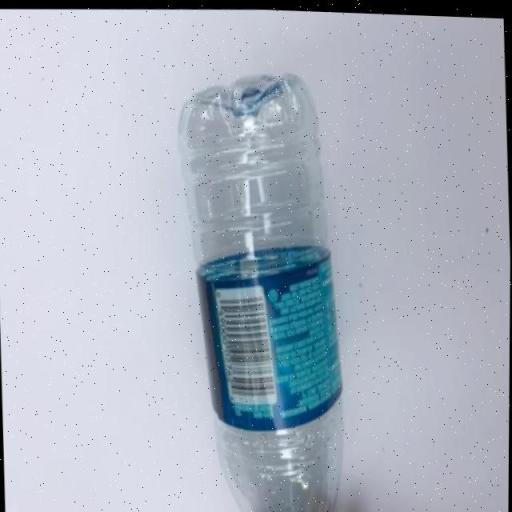plastic: (173, 64, 357, 512)
